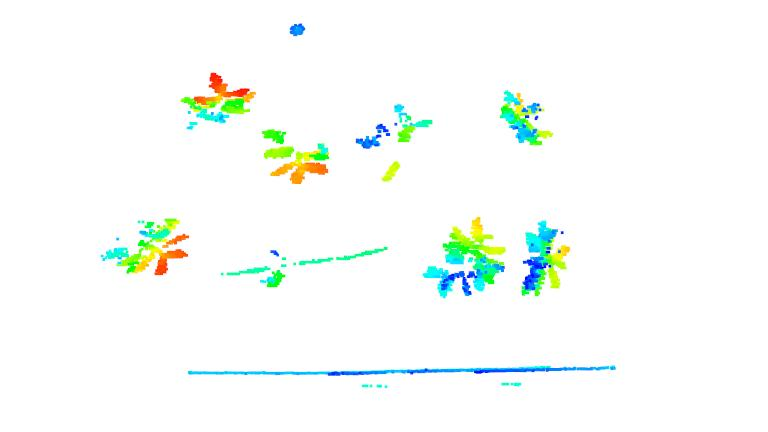chickpea: (424, 216, 508, 303), (356, 102, 431, 182), (100, 214, 192, 275), (178, 73, 258, 128), (258, 125, 330, 185), (496, 87, 555, 149), (520, 220, 566, 295), (262, 245, 289, 295)
